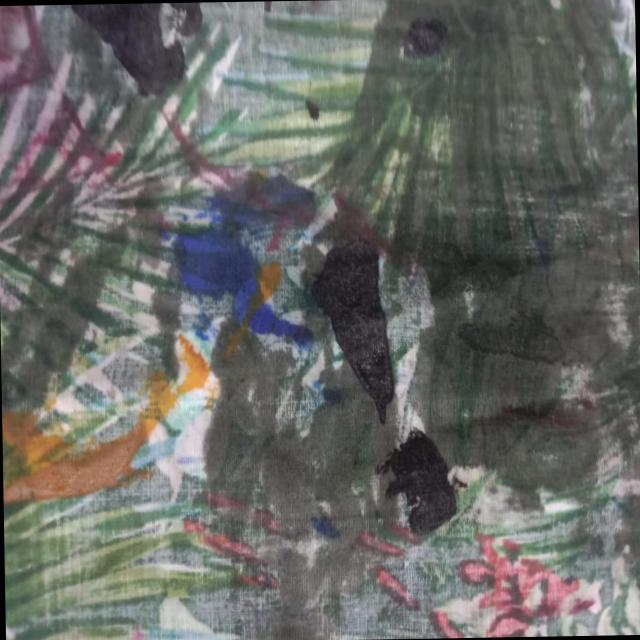baekra: (14, 32, 639, 596)
